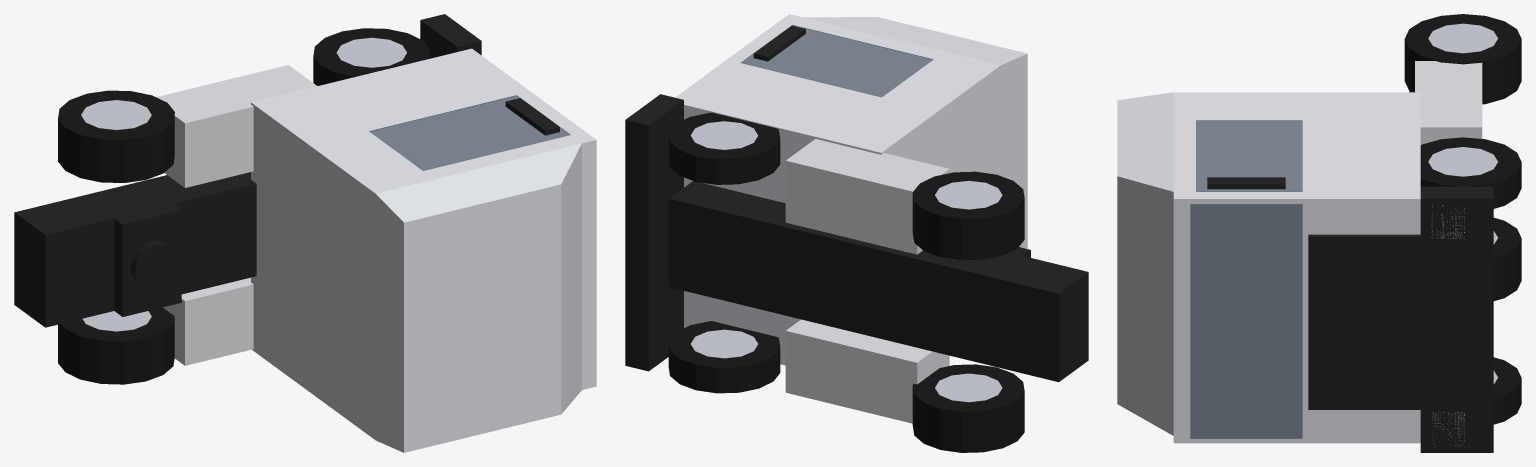
File: Camion_Cabina.obj
3 renders of one model, left to right at view 1: azimuth 30°, elevation 25°; view 2: azimuth 150°, elevation 25°; view 3: azimuth 270°, elevation 25°, orthographic. The views are drawn at different scales.
Parts seen in each view (by area): view 1: Cab_Body, Roof_Spoiler, Chassis_Frame, Fuel_Tanks, Wheel_RR_Outer, Side_Windows, Fifth_Wheel, Wheel_RL_Inner, Wheel_FR, Wheel_RL_Outer, Wheel_RR_Inner, Bumper_Front (+1 smaller); view 2: Chassis_Frame, Cab_Body, Fuel_Tanks, Bumper_Front, Wheel_RR_Outer, Roof_Spoiler, Wheel_FR, Wheel_FL, Side_Windows, Wheel_RL_Inner, Wheel_RL_Outer, Wheel_RR_Inner (+1 smaller); view 3: Cab_Body, Windshield, Grille, Bumper_Front, Roof_Spoiler, Side_Windows, Wheel_RR_Outer, Wheel_FR, Fuel_Tanks, Wheel_FL, Wheel_RL_Inner, Wheel_RR_Inner (+2 smaller).
Part boxes in pixels (bbox=[...]): Cab_Body: bbox=[251, 48, 596, 439]; Roof_Spoiler: bbox=[375, 143, 581, 452]; Chassis_Frame: bbox=[14, 172, 256, 327]; Fuel_Tanks: bbox=[156, 65, 317, 365]; Wheel_RR_Outer: bbox=[58, 90, 174, 166]; Side_Windows: bbox=[369, 95, 570, 170]; Fifth_Wheel: bbox=[114, 204, 181, 316]; Wheel_RL_Inner: bbox=[58, 307, 174, 367]; Wheel_FR: bbox=[313, 28, 430, 85]; Wheel_RL_Outer: bbox=[58, 333, 174, 384]; Wheel_RR_Inner: bbox=[58, 135, 174, 182]; Bumper_Front: bbox=[420, 14, 481, 58]; Chassis_Frame: bbox=[669, 181, 1088, 382]; Cab_Body: bbox=[675, 14, 1000, 365]; Fuel_Tanks: bbox=[785, 139, 949, 423]; Bumper_Front: bbox=[625, 94, 683, 371]; Wheel_RR_Outer: bbox=[912, 171, 1024, 244]; Roof_Spoiler: bbox=[804, 17, 1027, 248]; Wheel_FR: bbox=[668, 112, 780, 184]; Wheel_FL: bbox=[668, 321, 780, 393]; Side_Windows: bbox=[741, 25, 932, 97]; Wheel_RL_Inner: bbox=[912, 364, 1024, 436]; Wheel_RL_Outer: bbox=[912, 401, 1024, 452]; Wheel_RR_Inner: bbox=[912, 212, 1024, 260]; Cab_Body: bbox=[1173, 92, 1420, 443]; Windshield: bbox=[1190, 204, 1302, 438]; Grille: bbox=[1308, 234, 1420, 409]; Bumper_Front: bbox=[1420, 186, 1493, 452]; Roof_Spoiler: bbox=[1117, 92, 1173, 435]; Side_Windows: bbox=[1196, 120, 1302, 191]; Wheel_RR_Outer: bbox=[1404, 14, 1521, 87]; Wheel_FR: bbox=[1420, 137, 1521, 208]; Fuel_Tanks: bbox=[1415, 61, 1482, 144]; Wheel_FL: bbox=[1493, 357, 1521, 424]; Wheel_RL_Inner: bbox=[1493, 218, 1521, 281]; Wheel_RR_Inner: bbox=[1404, 55, 1521, 104].
Bounding box in the file's own units: 450 × 250 × 360.
